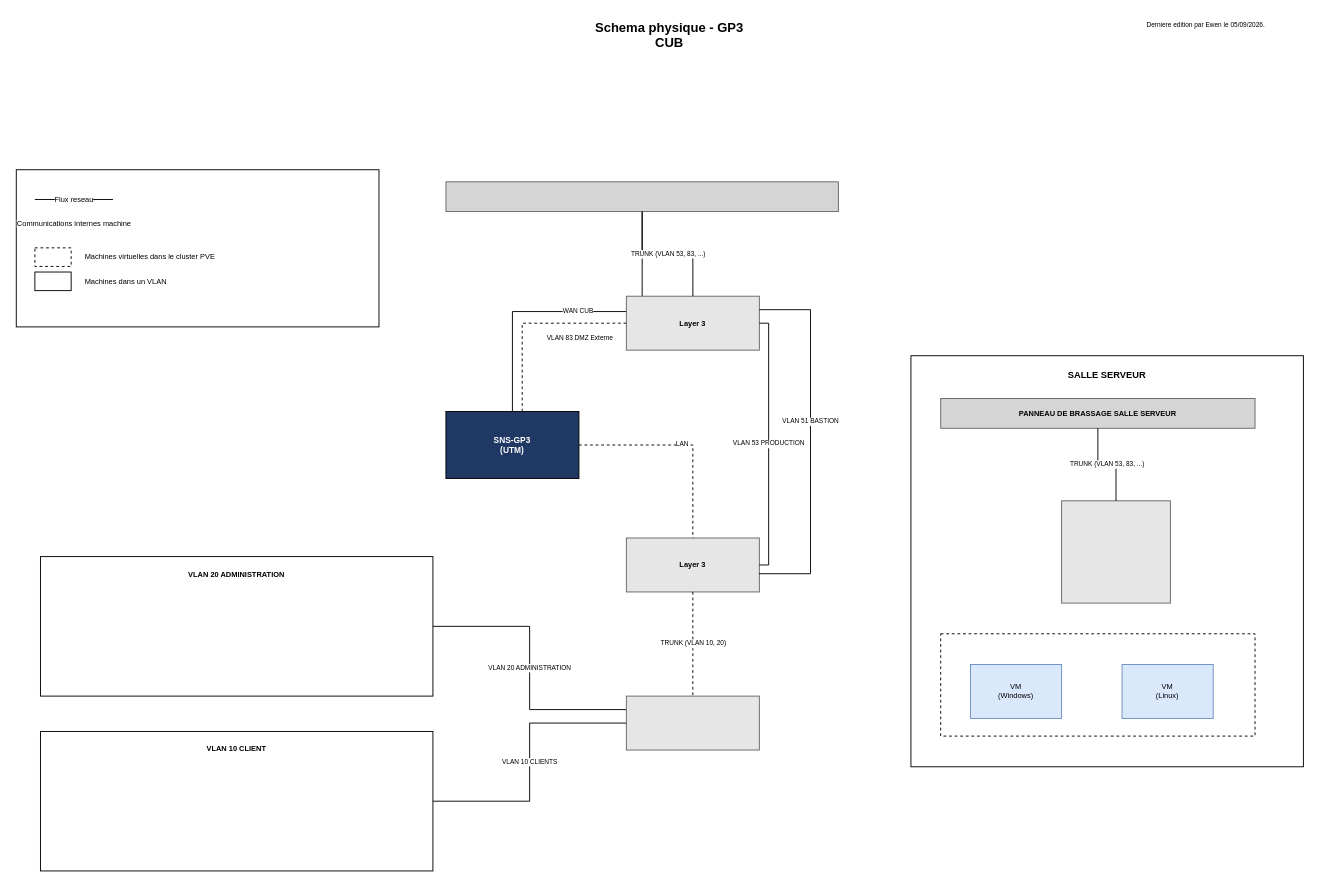
Image size: 1320x887. Some labels were removed from this diagram. Each missing label, with the box of its shape:
Cluster Proxmox: (1061, 500, 1170, 603)
Layer 2: (625, 695, 759, 750)
LEGENDE: (15, 169, 379, 327)
PANNEAU DE BRASSAGE GP3: (445, 181, 838, 212)
VM Cluster Proxmox: (940, 633, 1255, 736)
